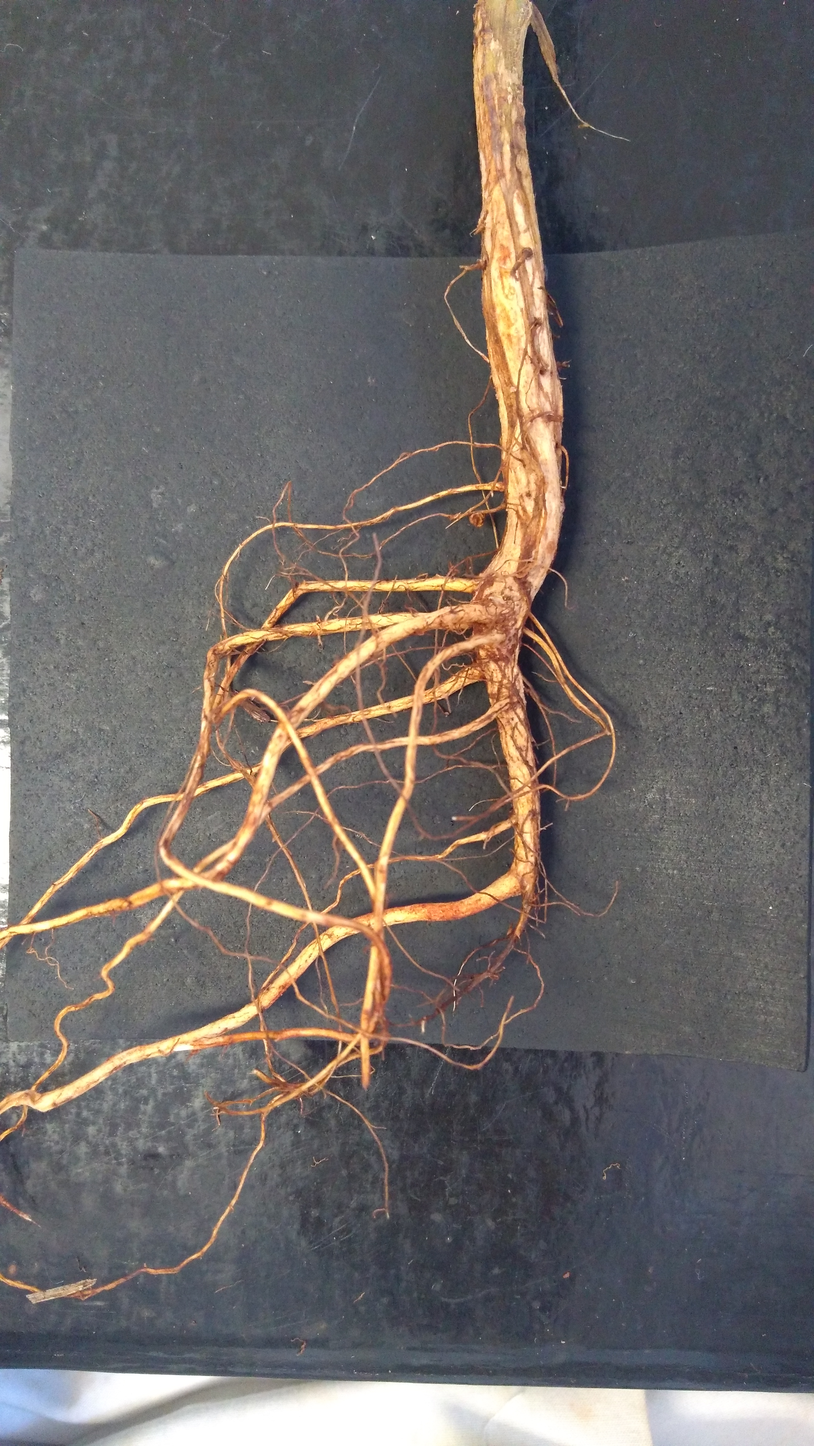nodule: (469, 513, 485, 528)
